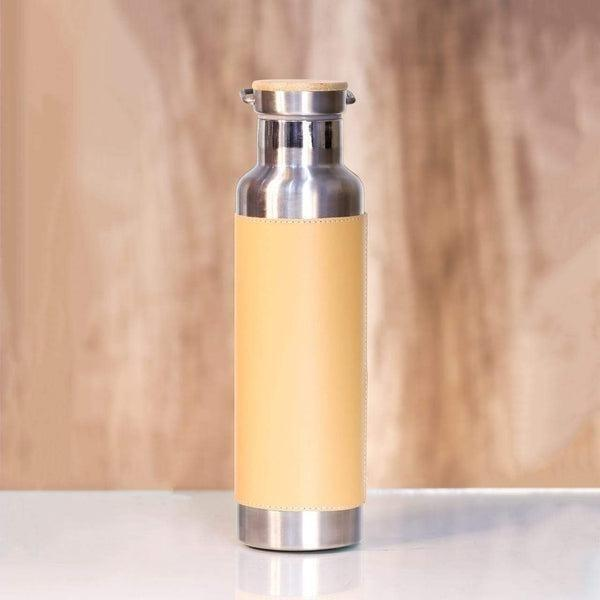gym bottle: (230, 76, 373, 558)
